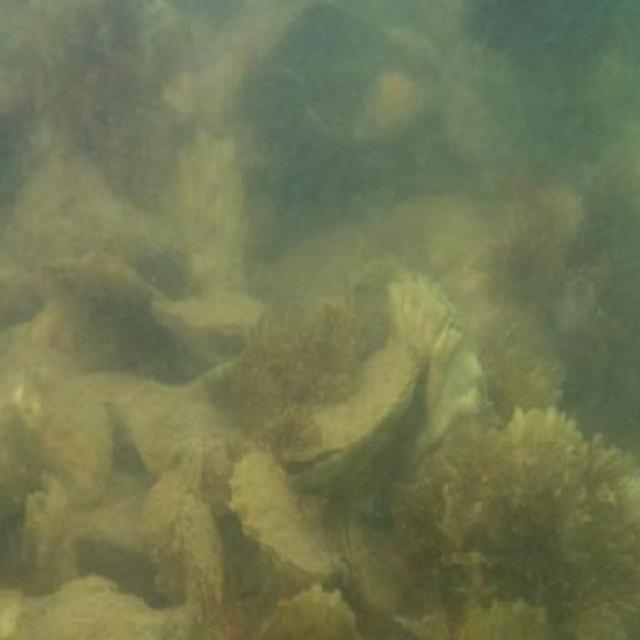Oyster-Closed: (326, 499, 473, 640), (282, 341, 417, 482), (220, 464, 337, 590), (117, 376, 258, 480), (143, 279, 293, 359), (43, 240, 162, 303), (154, 493, 213, 606), (146, 443, 207, 529)
